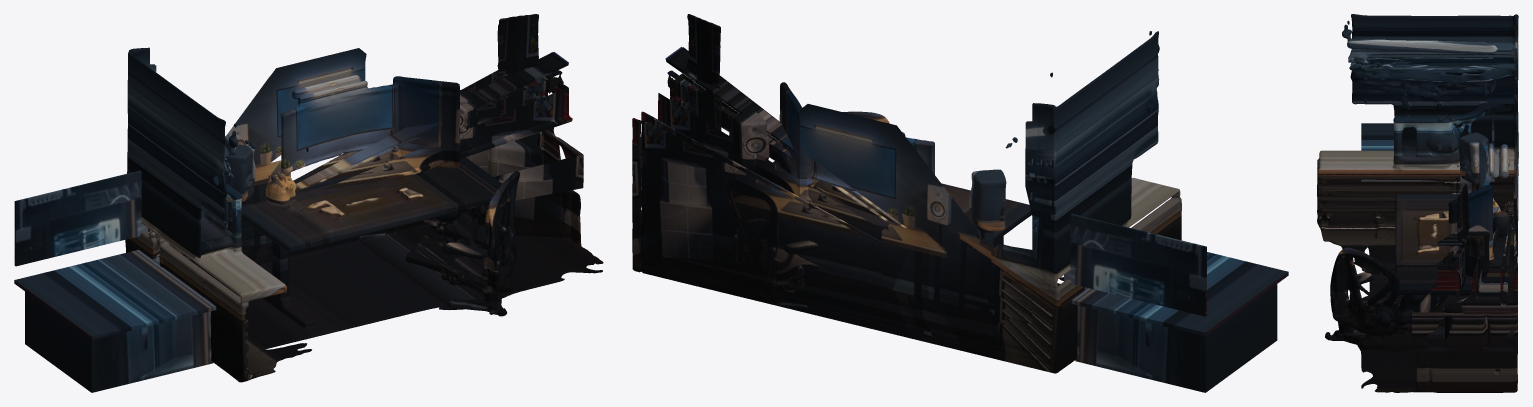
File: room.glb
3 views of the same model, side by side, from view 1: azimuth 30°, elevation 25°; view 2: azimuth 150°, elevation 25°; view 3: azimuth 270°, elevation 25° (orthographic). The views are drawn at different scales.
Parts seen in each view (by area): view 1: deskRoomFromStill; view 2: deskRoomFromStill; view 3: deskRoomFromStill.
Boxes of the visible parts, box(x1,y1,x2,y2) form: deskRoomFromStill: box(14, 14, 603, 392); deskRoomFromStill: box(632, 14, 1288, 392); deskRoomFromStill: box(1317, 14, 1518, 392).
Size of the model in its own units: 6.99 by 3.2 by 2.71.
Materials: 1 (1 with a texture image).
